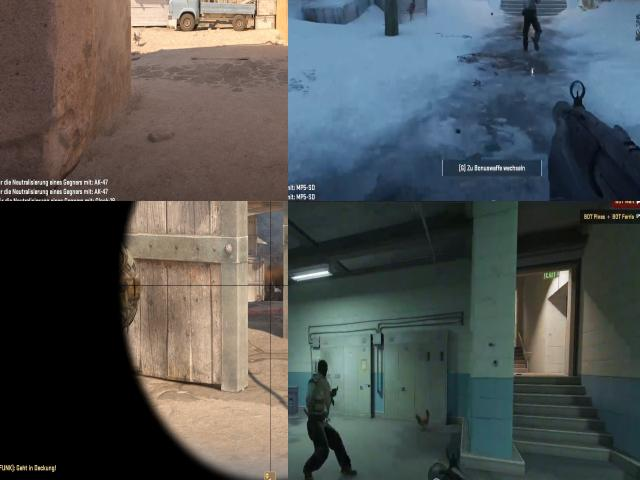CT: (272, 286, 284, 301), (267, 282, 274, 300)
CT-Head: (268, 282, 273, 290), (276, 286, 282, 291)
T: (306, 354, 335, 430), (118, 244, 138, 325), (519, 0, 543, 19)
T-Head: (314, 357, 330, 382)
